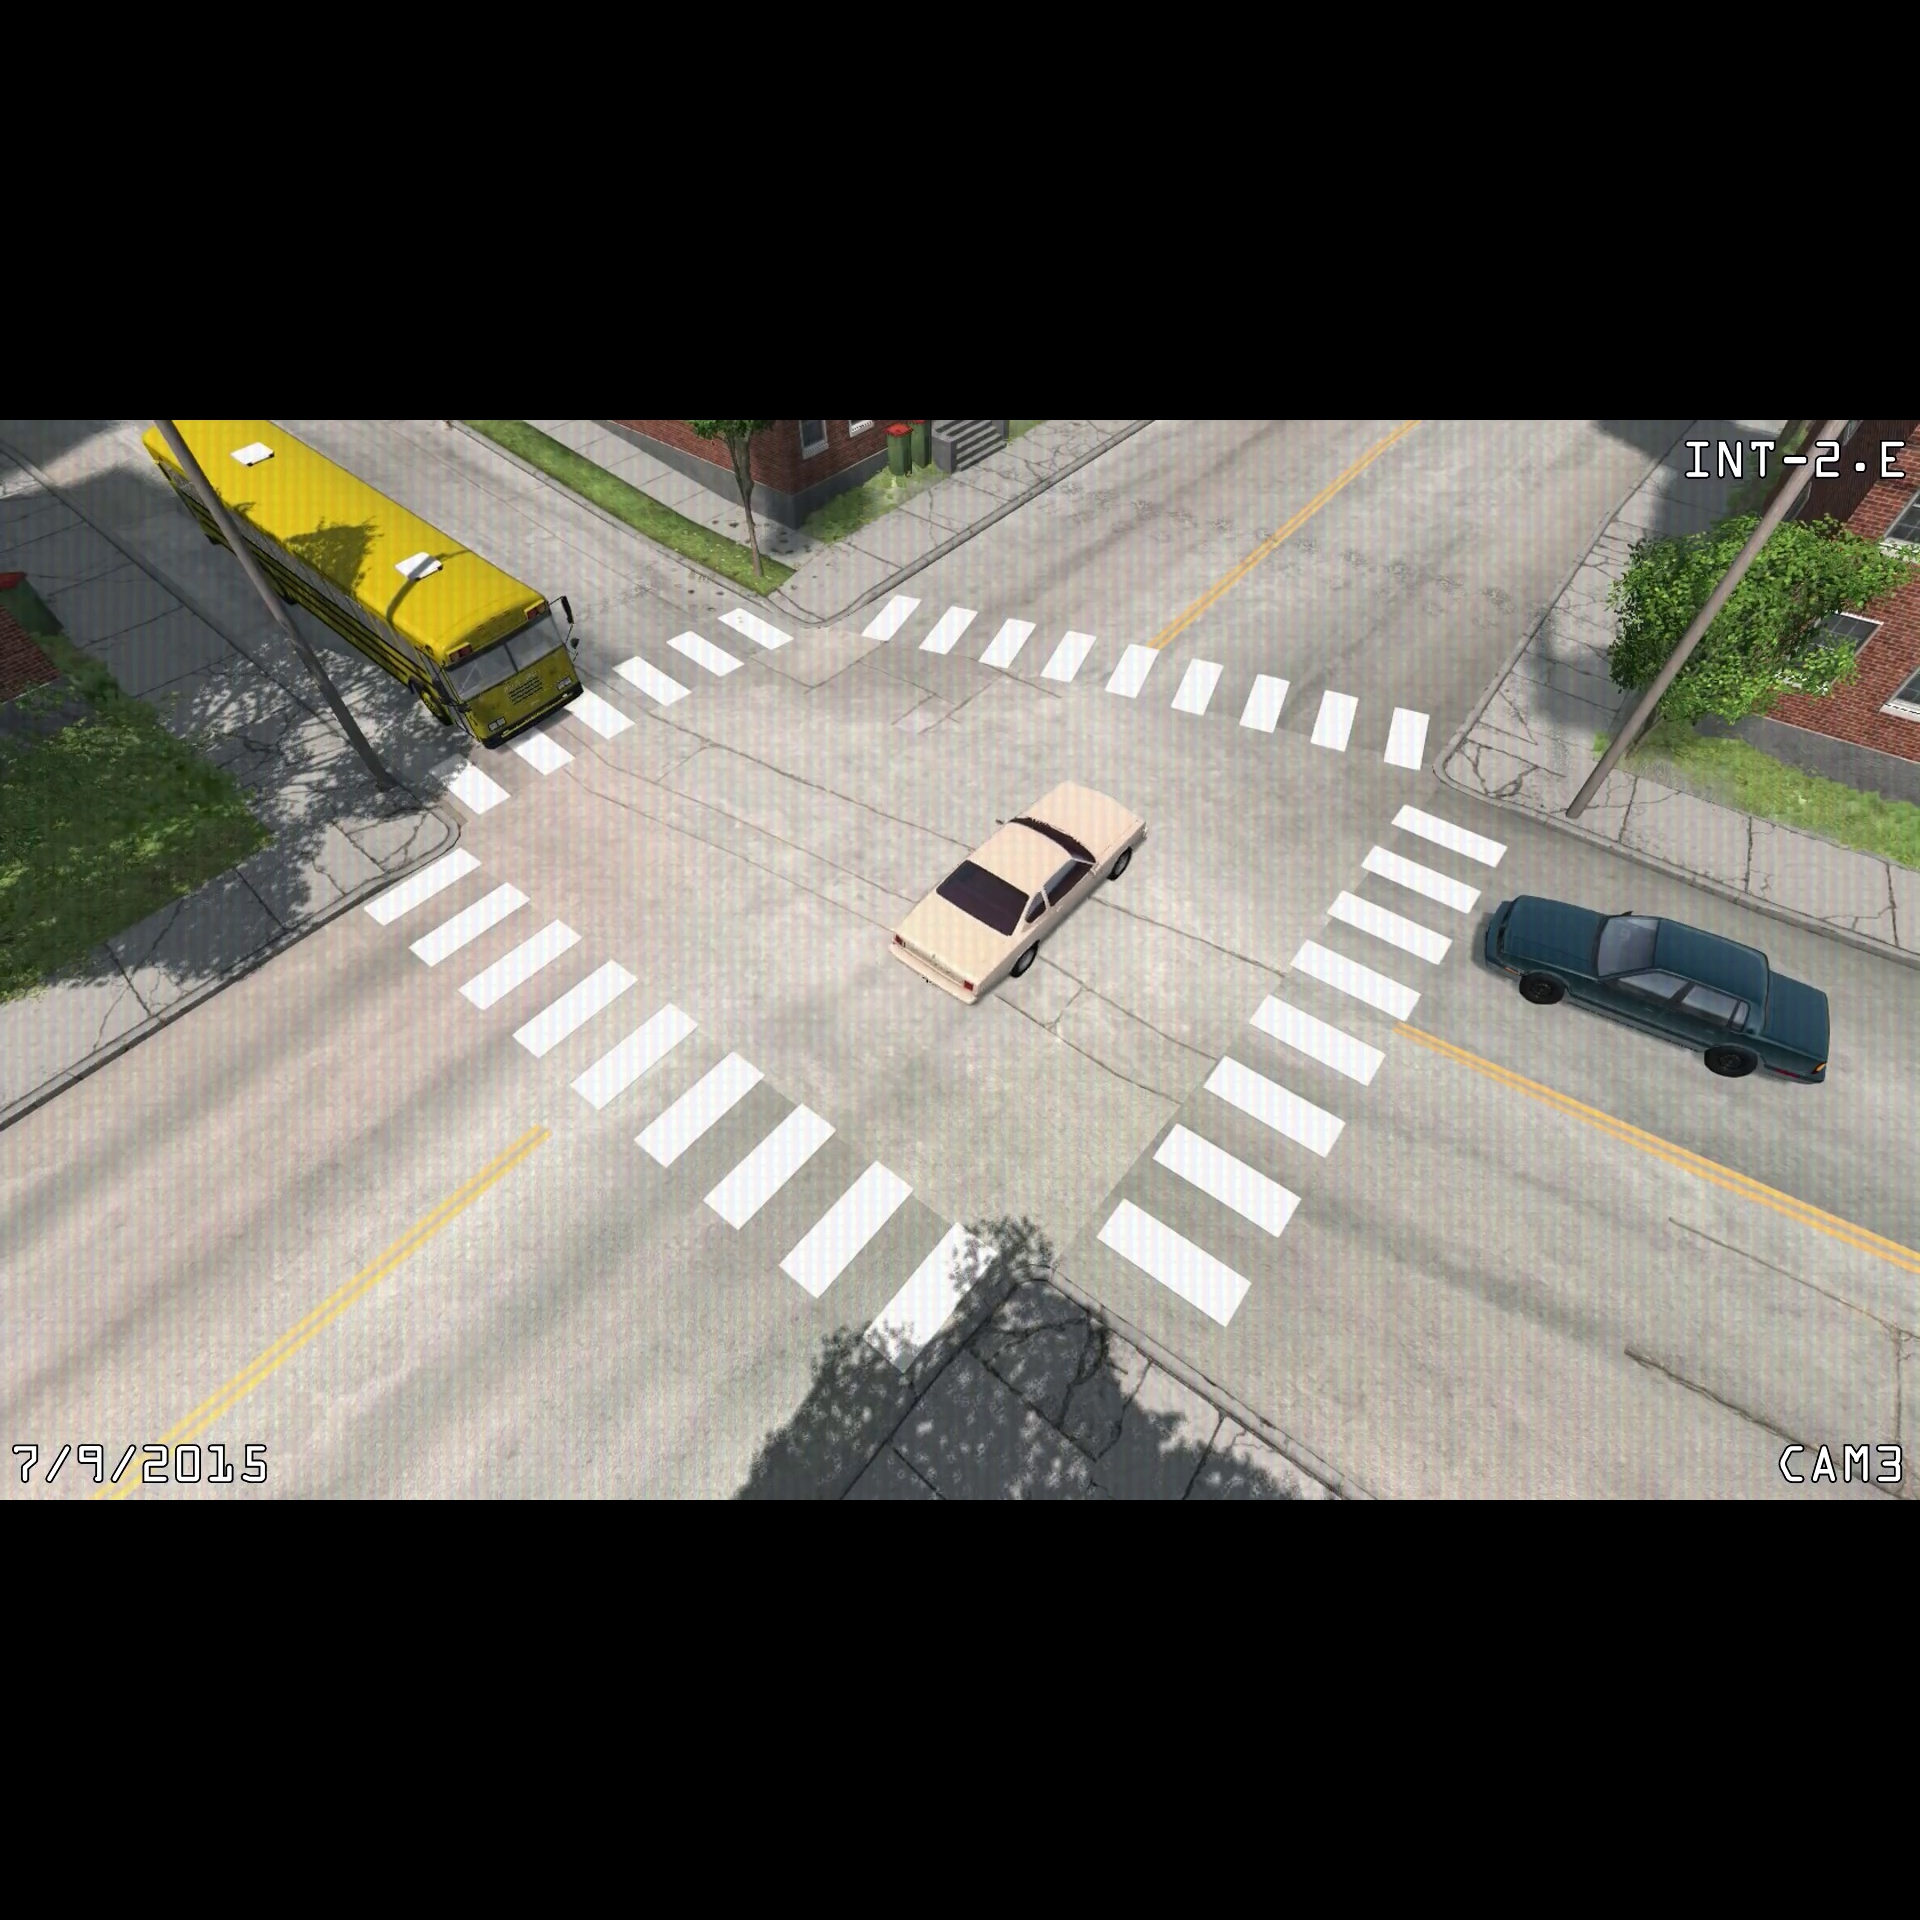vehicle: (134, 418, 593, 758), (1475, 883, 1841, 1099), (886, 770, 1153, 1013)
